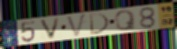5: (20, 20, 36, 42)
8: (138, 6, 157, 29)
D: (88, 12, 111, 36)
Q: (114, 9, 138, 32)
V: (38, 16, 62, 41), (65, 13, 88, 38)
